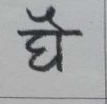au_matra: (38, 8, 69, 65)
